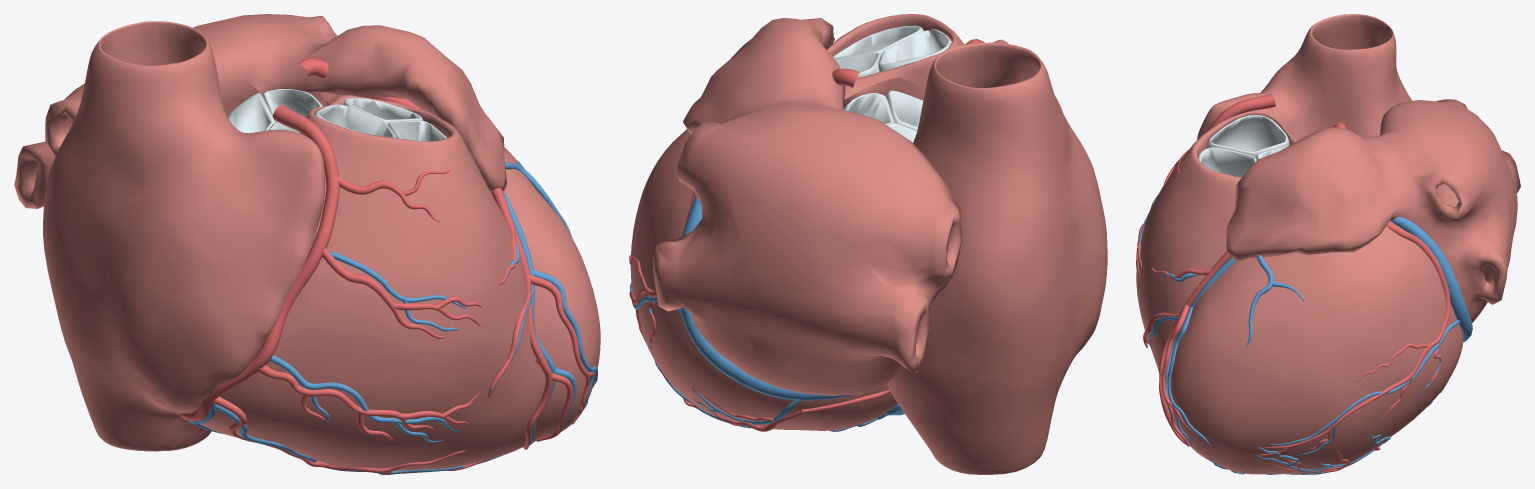
The model's file is heart.glb.
3 views of the same model, side by side, from view 1: azimuth 30°, elevation 25°; view 2: azimuth 150°, elevation 25°; view 3: azimuth 270°, elevation 25° (orthographic). The views are drawn at different scales.
Parts seen in each view (by area): view 1: Right atrium, Right ventricle, Left atrium, Right coronary artery, Left ventricle, Anterior interventricular artery, ????????, Great cardiac vein, Right semilunar leaflet of pulmonary valve, Non-coronary leaflet, Left coronary leaflet, Left semilunar leaflet of pulmonary valve (+1 smaller); view 2: Left atrium, Right atrium, Left ventricle, Right ventricle, Coronary sinus, Right semilunar leaflet of pulmonary valve, Anterior semilunar leaflet of pulmonary valve, Right coronary leaflet, Left coronary leaflet, Inferior vein of left ventricle (//Posterior ''), Left semilunar leaflet of pulmonary valve, Circumflex artery of heart (+2 smaller); view 3: Left ventricle, Left atrium, Right atrium, Right ventricle, Great cardiac vein, Circumflex artery of heart, Anterior interventricular artery, Right semilunar leaflet of pulmonary valve, Anterior semilunar leaflet of pulmonary valve, Inferior vein of left ventricle, Right coronary artery, Inferior vein of left ventricle (//Posterior '') (+1 smaller).
Boxes of the visible parts, <box> form: Right atrium: <box>43,21,324,451</box>; Right ventricle: <box>184,92,540,470</box>; Left atrium: <box>14,14,506,208</box>; Right coronary artery: <box>179,105,493,473</box>; Left ventricle: <box>309,93,600,442</box>; Anterior interventricular artery: <box>371,97,594,449</box>; ????????: <box>189,251,503,474</box>; Great cardiac vein: <box>493,161,597,444</box>; Right semilunar leaflet of pulmonary valve: <box>315,104,396,137</box>; Non-coronary leaflet: <box>228,92,275,133</box>; Left coronary leaflet: <box>262,89,322,122</box>; Left semilunar leaflet of pulmonary valve: <box>343,98,423,124</box>; Left atrium: <box>653,18,962,395</box>; Right atrium: <box>887,39,1107,474</box>; Left ventricle: <box>630,77,924,430</box>; Right ventricle: <box>827,14,964,99</box>; Coronary sinus: <box>680,307,852,400</box>; Right semilunar leaflet of pulmonary valve: <box>878,29,951,71</box>; Anterior semilunar leaflet of pulmonary valve: <box>833,25,923,58</box>; Right coronary leaflet: <box>886,90,923,130</box>; Left coronary leaflet: <box>843,93,894,124</box>; Inferior vein of left ventricle (//Posterior ''): <box>654,360,801,428</box>; Left semilunar leaflet of pulmonary valve: <box>835,52,880,77</box>; Circumflex artery of heart: <box>629,191,695,343</box>; Left ventricle: <box>1168,221,1463,474</box>; Left atrium: <box>1226,99,1520,322</box>; Right atrium: <box>1197,14,1412,140</box>; Right ventricle: <box>1136,111,1297,371</box>; Great cardiac vein: <box>1149,217,1466,448</box>; Circumflex artery of heart: <box>1256,222,1450,455</box>; Anterior interventricular artery: <box>1143,251,1231,446</box>; Right semilunar leaflet of pulmonary valve: <box>1207,115,1289,159</box>; Anterior semilunar leaflet of pulmonary valve: <box>1198,147,1256,177</box>; Inferior vein of left ventricle: <box>1255,319,1460,466</box>; Right coronary artery: <box>1136,94,1275,345</box>; Inferior vein of left ventricle (//Posterior ''): <box>1253,381,1448,474</box>.
Size of the model in its own units: 0.1219 by 0.1106 by 0.116.
